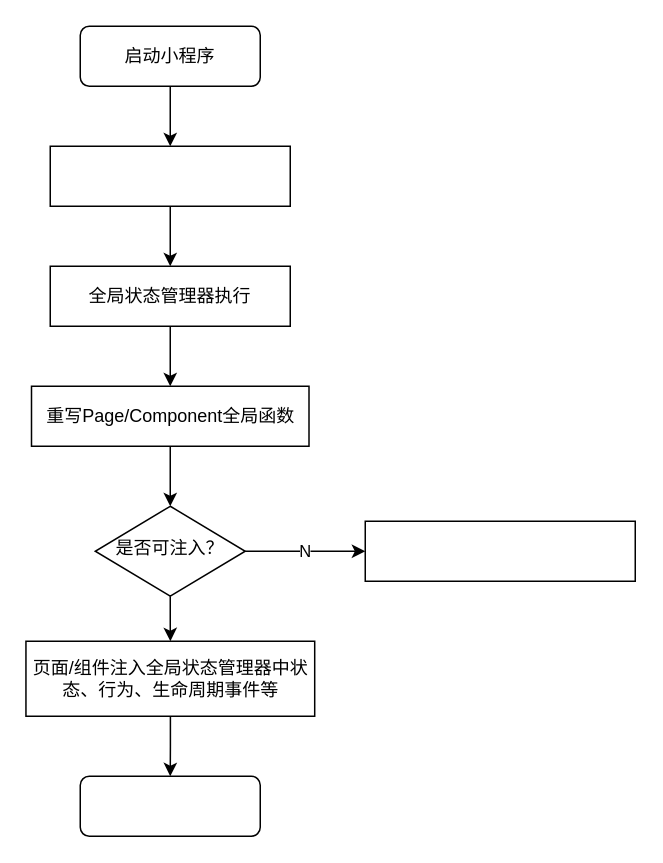
Image size: 663x863. Some labels were removed from this diagram. The centre of each missing label's shape, as x and y in pixels:
"app全局函数执行" belongs at pixel 169 175.
"当前页面/组件不做任何处理" belongs at pixel 499 550.
"结束" belongs at pixel 169 805.
